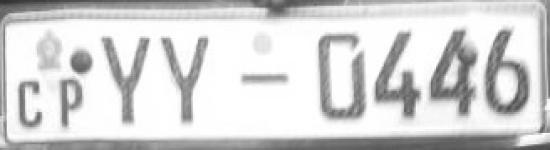-: (236, 63, 294, 93)
0: (310, 25, 372, 128)
4: (372, 26, 428, 130), (429, 23, 479, 133)
6: (480, 20, 534, 120)
C: (13, 74, 47, 135)
P: (50, 76, 88, 132)
Y: (160, 31, 226, 132), (95, 30, 157, 131)
